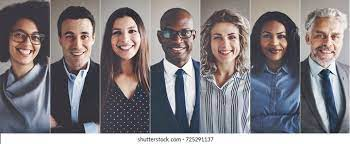person: (56, 5, 97, 69), (103, 6, 148, 62), (156, 6, 198, 63)
